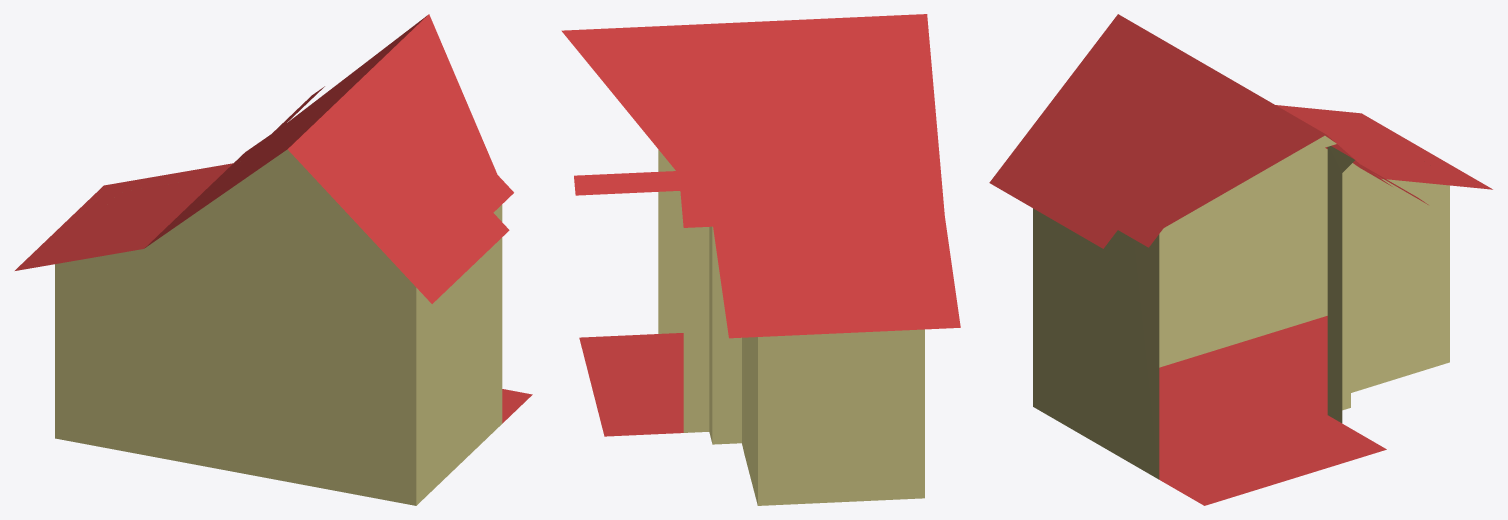
3 views of the same model, side by side, from view 1: azimuth 30°, elevation 25°; view 2: azimuth 150°, elevation 25°; view 3: azimuth 270°, elevation 25° (orthographic). The views are drawn at different scales.
Size of the model in its own units: 16.44 by 16.14 by 12.36.
